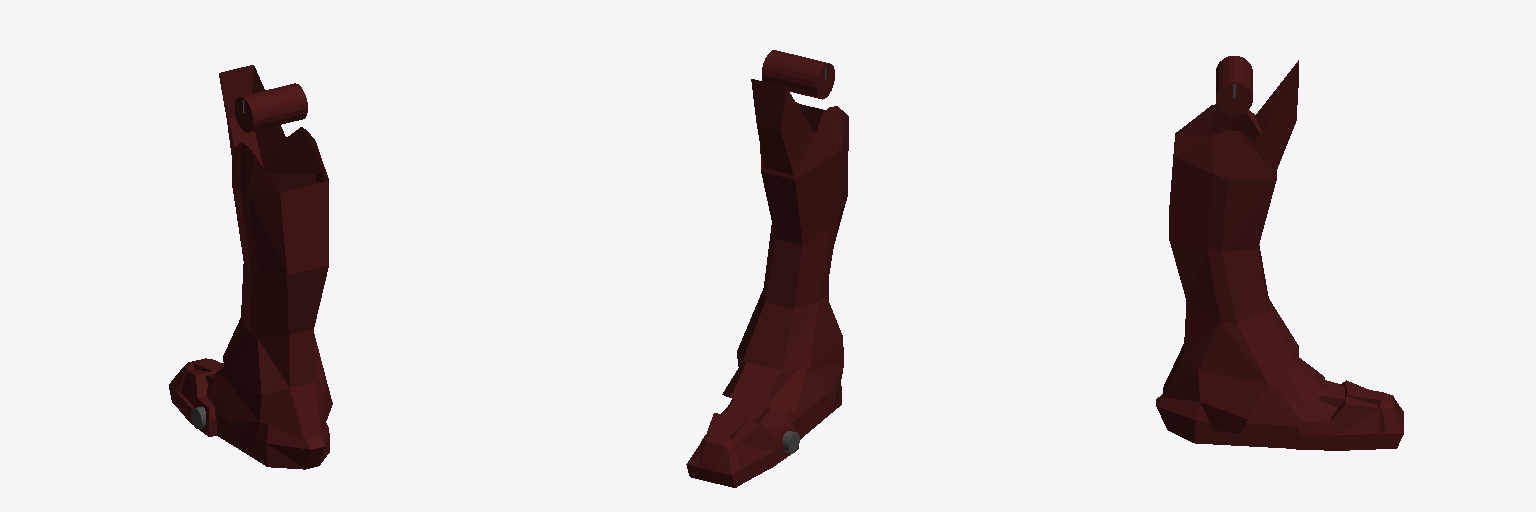
The model's file is LeftShin.obj.
3 views of the same model, side by side, from view 1: azimuth 30°, elevation 25°; view 2: azimuth 150°, elevation 25°; view 3: azimuth 270°, elevation 25° (orthographic).
Parts seen in each view (by area): view 1: Mesh.001_Mesh.015_polySurface635_polySurface632, Mesh.003_Mesh.009_polySurface632_polySurface642, Mesh.005_Mesh.018_polySurface632_polySurface670, Mesh_Mesh.010_polySurface632_polySurface643; view 2: Mesh.001_Mesh.015_polySurface635_polySurface632, Mesh_Mesh.010_polySurface632_polySurface643, Mesh.004_Mesh.012_polySurface632_polySurface641, Mesh.003_Mesh.009_polySurface632_polySurface642, Mesh.005_Mesh.018_polySurface632_polySurface670; view 3: Mesh.001_Mesh.015_polySurface635_polySurface632, Mesh.003_Mesh.009_polySurface632_polySurface642, Mesh_Mesh.010_polySurface632_polySurface643, Mesh.005_Mesh.018_polySurface632_polySurface670, Mesh.004_Mesh.012_polySurface632_polySurface641.
Part boxes in pixels (left/top/right/bottom): Mesh.001_Mesh.015_polySurface635_polySurface632: left=219, top=65, right=332, bottom=447; Mesh.003_Mesh.009_polySurface632_polySurface642: left=205, top=373, right=329, bottom=469; Mesh.005_Mesh.018_polySurface632_polySurface670: left=235, top=83, right=307, bottom=132; Mesh_Mesh.010_polySurface632_polySurface643: left=169, top=358, right=223, bottom=436; Mesh.001_Mesh.015_polySurface635_polySurface632: left=737, top=79, right=848, bottom=410; Mesh_Mesh.010_polySurface632_polySurface643: left=686, top=409, right=798, bottom=487; Mesh.004_Mesh.012_polySurface632_polySurface641: left=722, top=361, right=806, bottom=412; Mesh.003_Mesh.009_polySurface632_polySurface642: left=725, top=370, right=841, bottom=439; Mesh.005_Mesh.018_polySurface632_polySurface670: left=762, top=50, right=834, bottom=99; Mesh.001_Mesh.015_polySurface635_polySurface632: left=1163, top=60, right=1298, bottom=433; Mesh.003_Mesh.009_polySurface632_polySurface642: left=1156, top=380, right=1381, bottom=448; Mesh_Mesh.010_polySurface632_polySurface643: left=1296, top=380, right=1403, bottom=450; Mesh.005_Mesh.018_polySurface632_polySurface670: left=1216, top=56, right=1252, bottom=115; Mesh.004_Mesh.012_polySurface632_polySurface641: left=1269, top=358, right=1327, bottom=408.
Size of the model in its own units: 7.63 by 30.13 by 18.44.